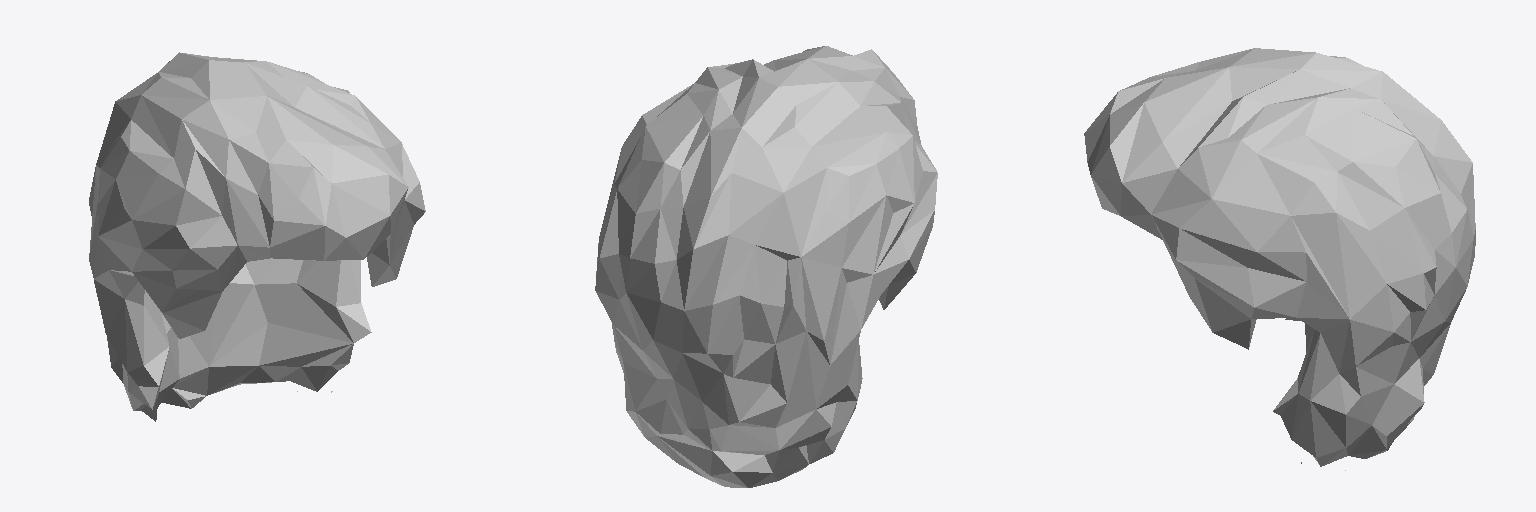
File: hair male 2.obj
The picture shows the model from 3 angles: view 1: azimuth 30°, elevation 25°; view 2: azimuth 150°, elevation 25°; view 3: azimuth 270°, elevation 25°; orthographic projection.
Visible parts, largest first — view 1: Object.001_Mesh; view 2: Object.001_Mesh; view 3: Object.001_Mesh.
Part boxes in pixels (bbox=[...]): Object.001_Mesh: bbox=[89, 52, 425, 421]; Object.001_Mesh: bbox=[595, 46, 937, 487]; Object.001_Mesh: bbox=[1084, 48, 1475, 470].
Bounding box in the file's own units: 0.4131 × 0.5526 × 0.5173.